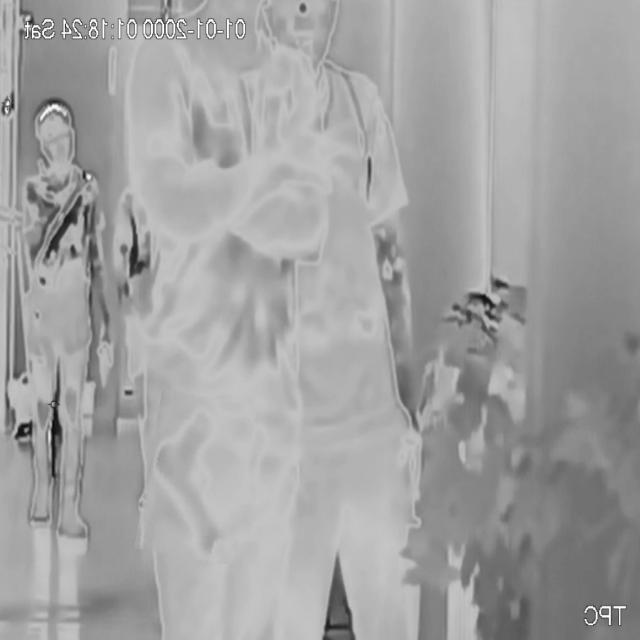Weapon: (142, 393, 252, 562)
